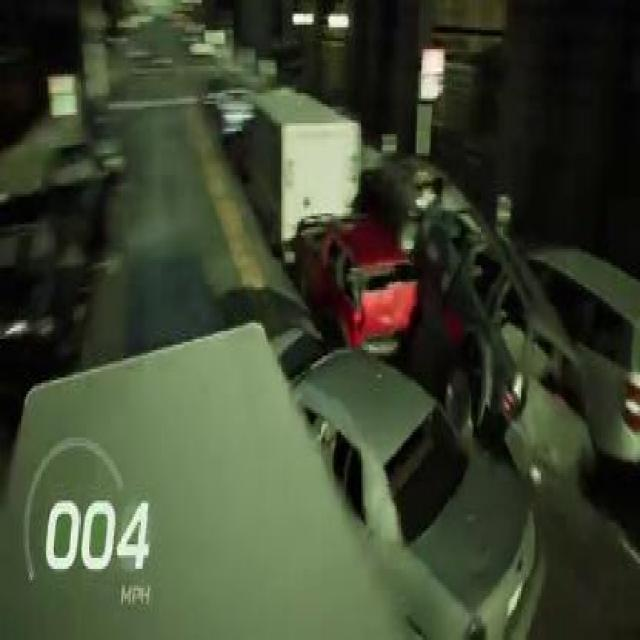accident: (0, 304, 545, 637), (287, 163, 590, 488), (416, 196, 639, 504), (239, 80, 419, 358)
